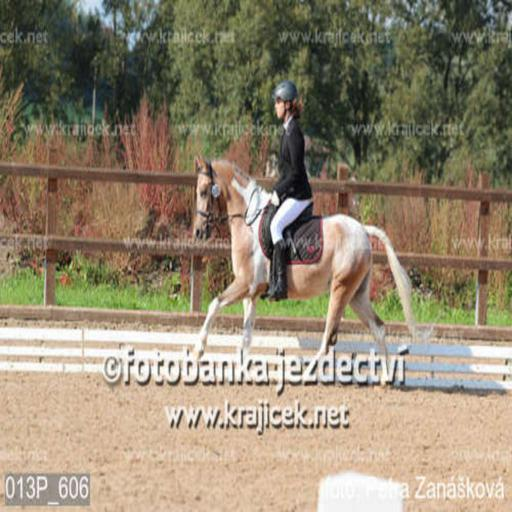horse: (190, 148, 420, 366)
